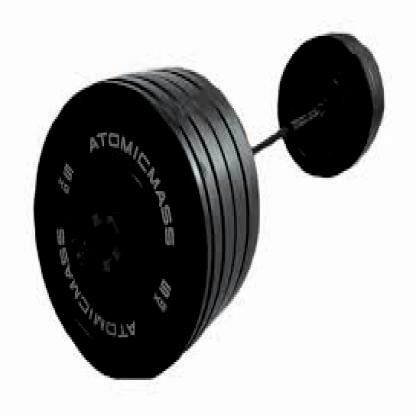Barbell: (65, 212, 127, 287)
